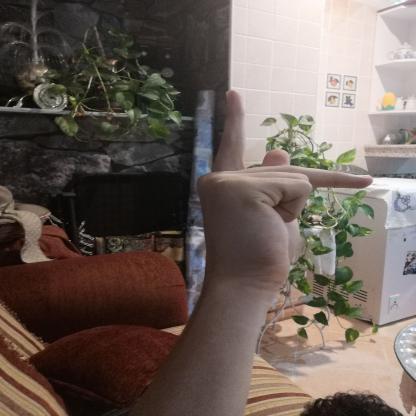DHAA: (180, 80, 390, 315)
